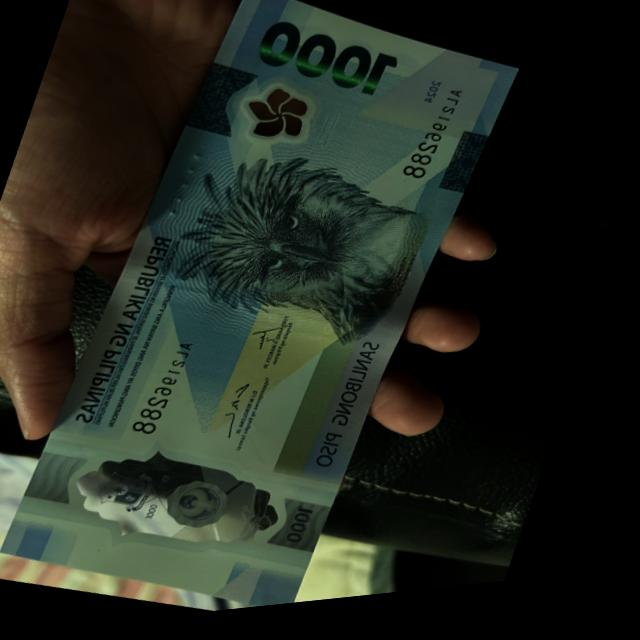clear_window: (45, 417, 329, 587)
eagle: (154, 125, 457, 356)
sampaguita: (236, 81, 325, 154)
